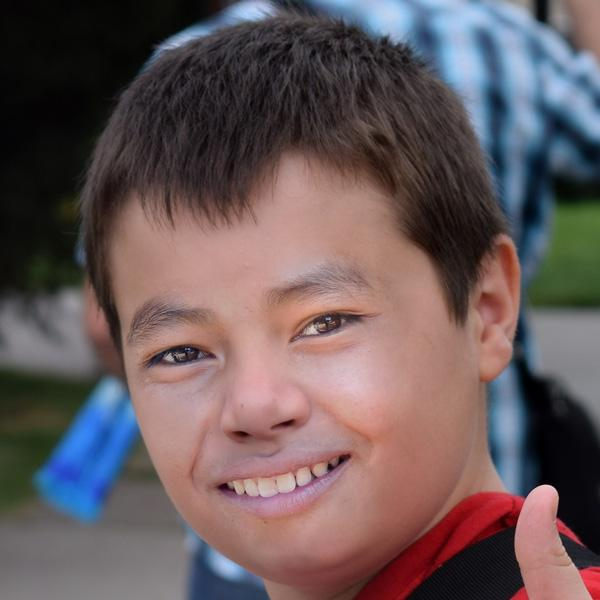Eyes: (277, 295, 385, 365), (134, 322, 227, 388)
